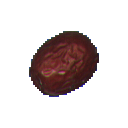gd: (16, 15, 112, 119)
